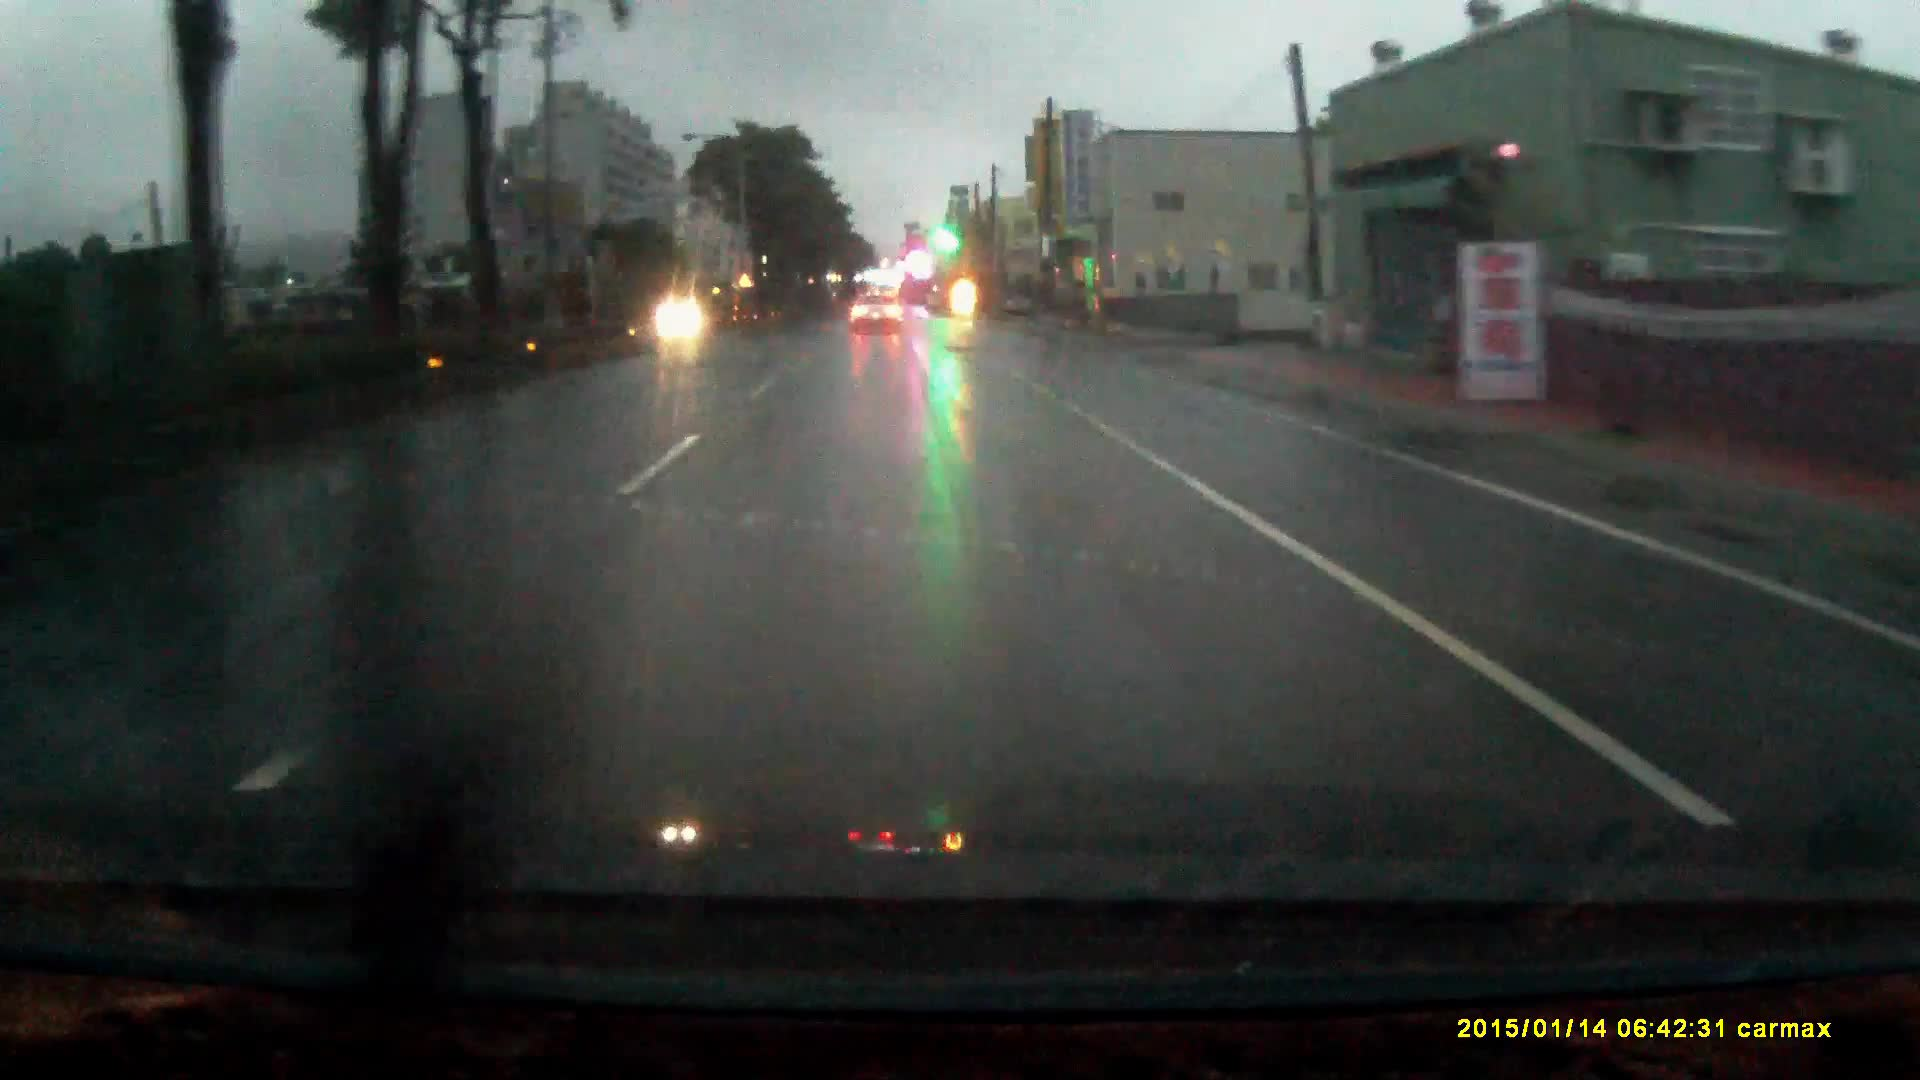vehicle: (851, 301, 903, 344), (1004, 282, 1040, 323)
